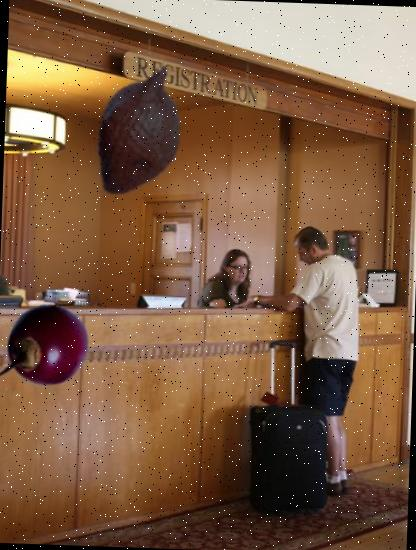Salak: (69, 58, 214, 203)
Tamarillo: (0, 299, 92, 393)
